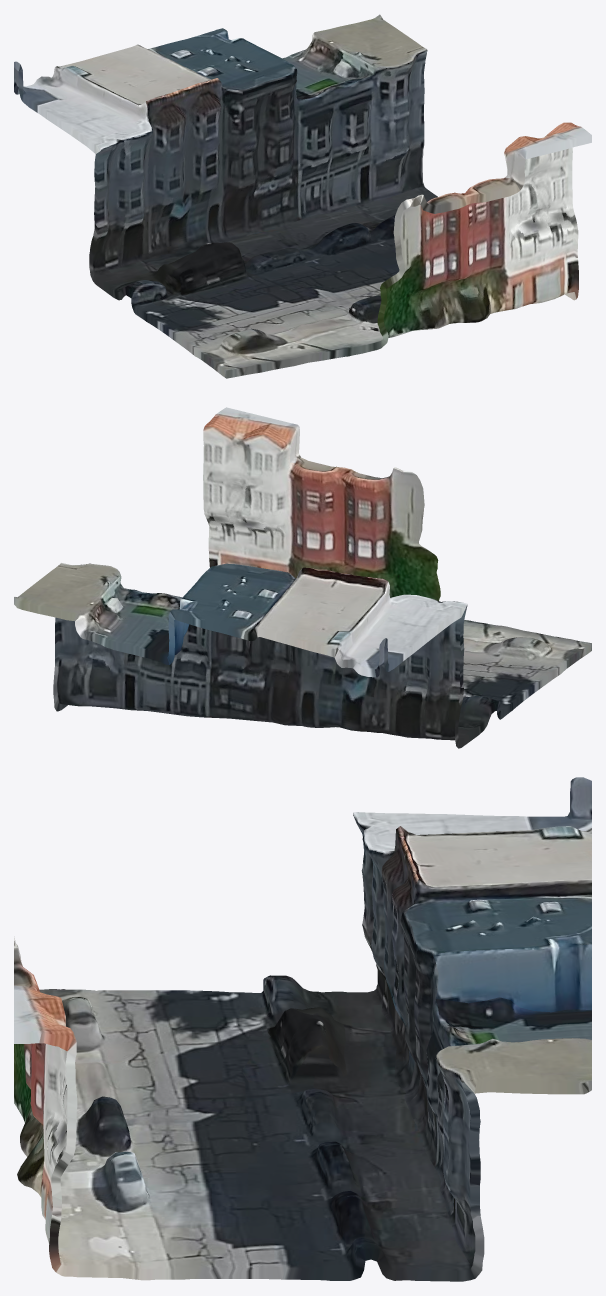
Rendered from z20-167739-405197-h0-yup-uvflip-v3-world.glb.
3 views of the same model, one above another, from view 1: azimuth 30°, elevation 25°; view 2: azimuth 150°, elevation 25°; view 3: azimuth 270°, elevation 25° (orthographic). The views are drawn at different scales.
Bounding box in the file's own units: 30.16 × 15.12 × 30.32.
Materials: 1 (1 with a texture image).
